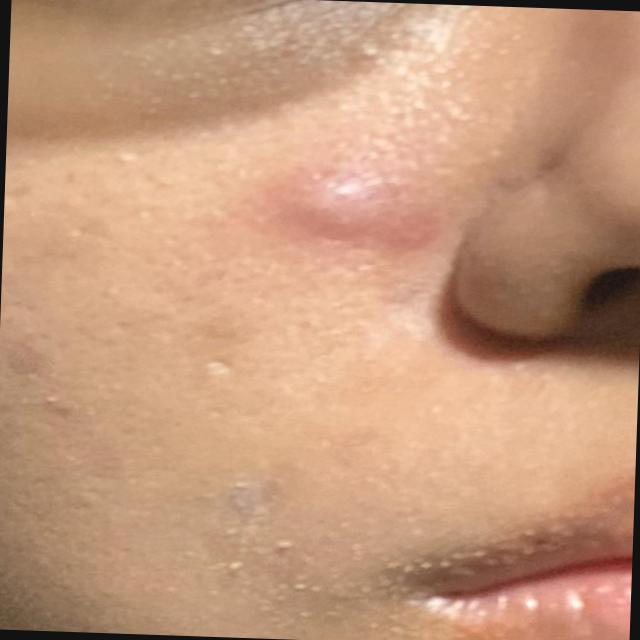nodule: (289, 164, 402, 240)
